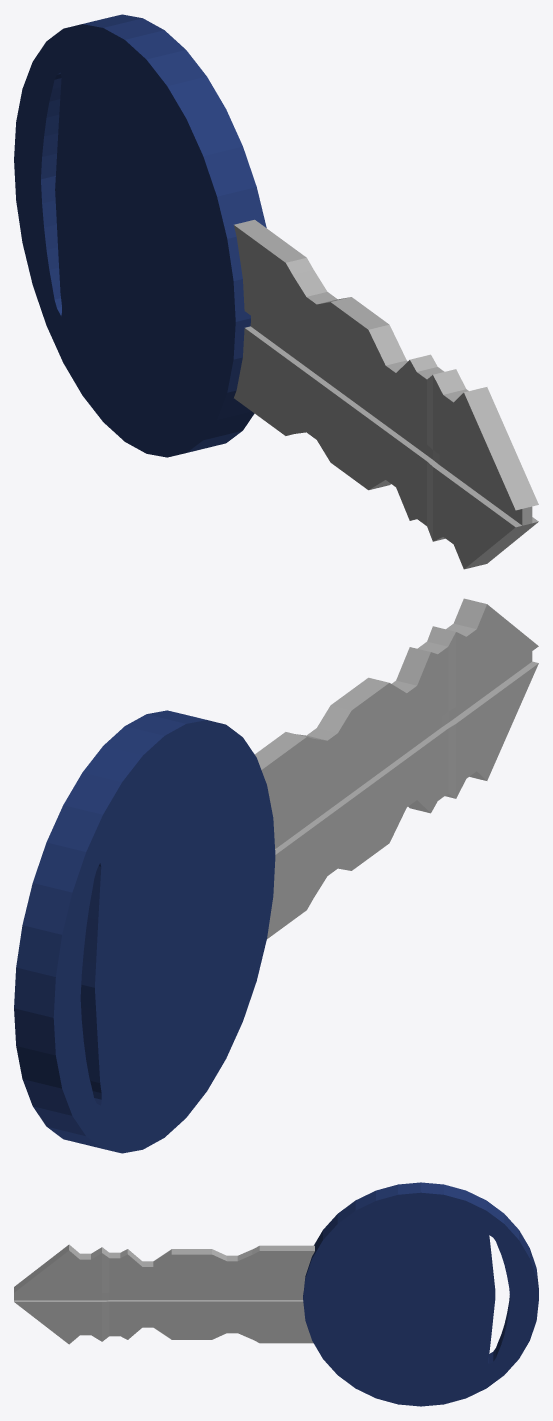
The model's file is klucz.fbx.
3 views of the same model, one above another, from view 1: azimuth 30°, elevation 25°; view 2: azimuth 150°, elevation 25°; view 3: azimuth 270°, elevation 25° (orthographic). The views are drawn at different scales.
Parts seen in each view (by area): view 1: Cylinder, Cube; view 2: Cylinder, Cube; view 3: Cylinder, Cube.
Part boxes in pixels (x1,y1,x2,y2): Cylinder: [14, 14, 266, 457]; Cube: [234, 219, 538, 569]; Cylinder: [14, 710, 275, 1153]; Cube: [255, 598, 538, 938]; Cylinder: [303, 1182, 538, 1406]; Cube: [14, 1244, 314, 1344].
Bounding box in the file's own units: 6.66 × 64.34 × 143.
